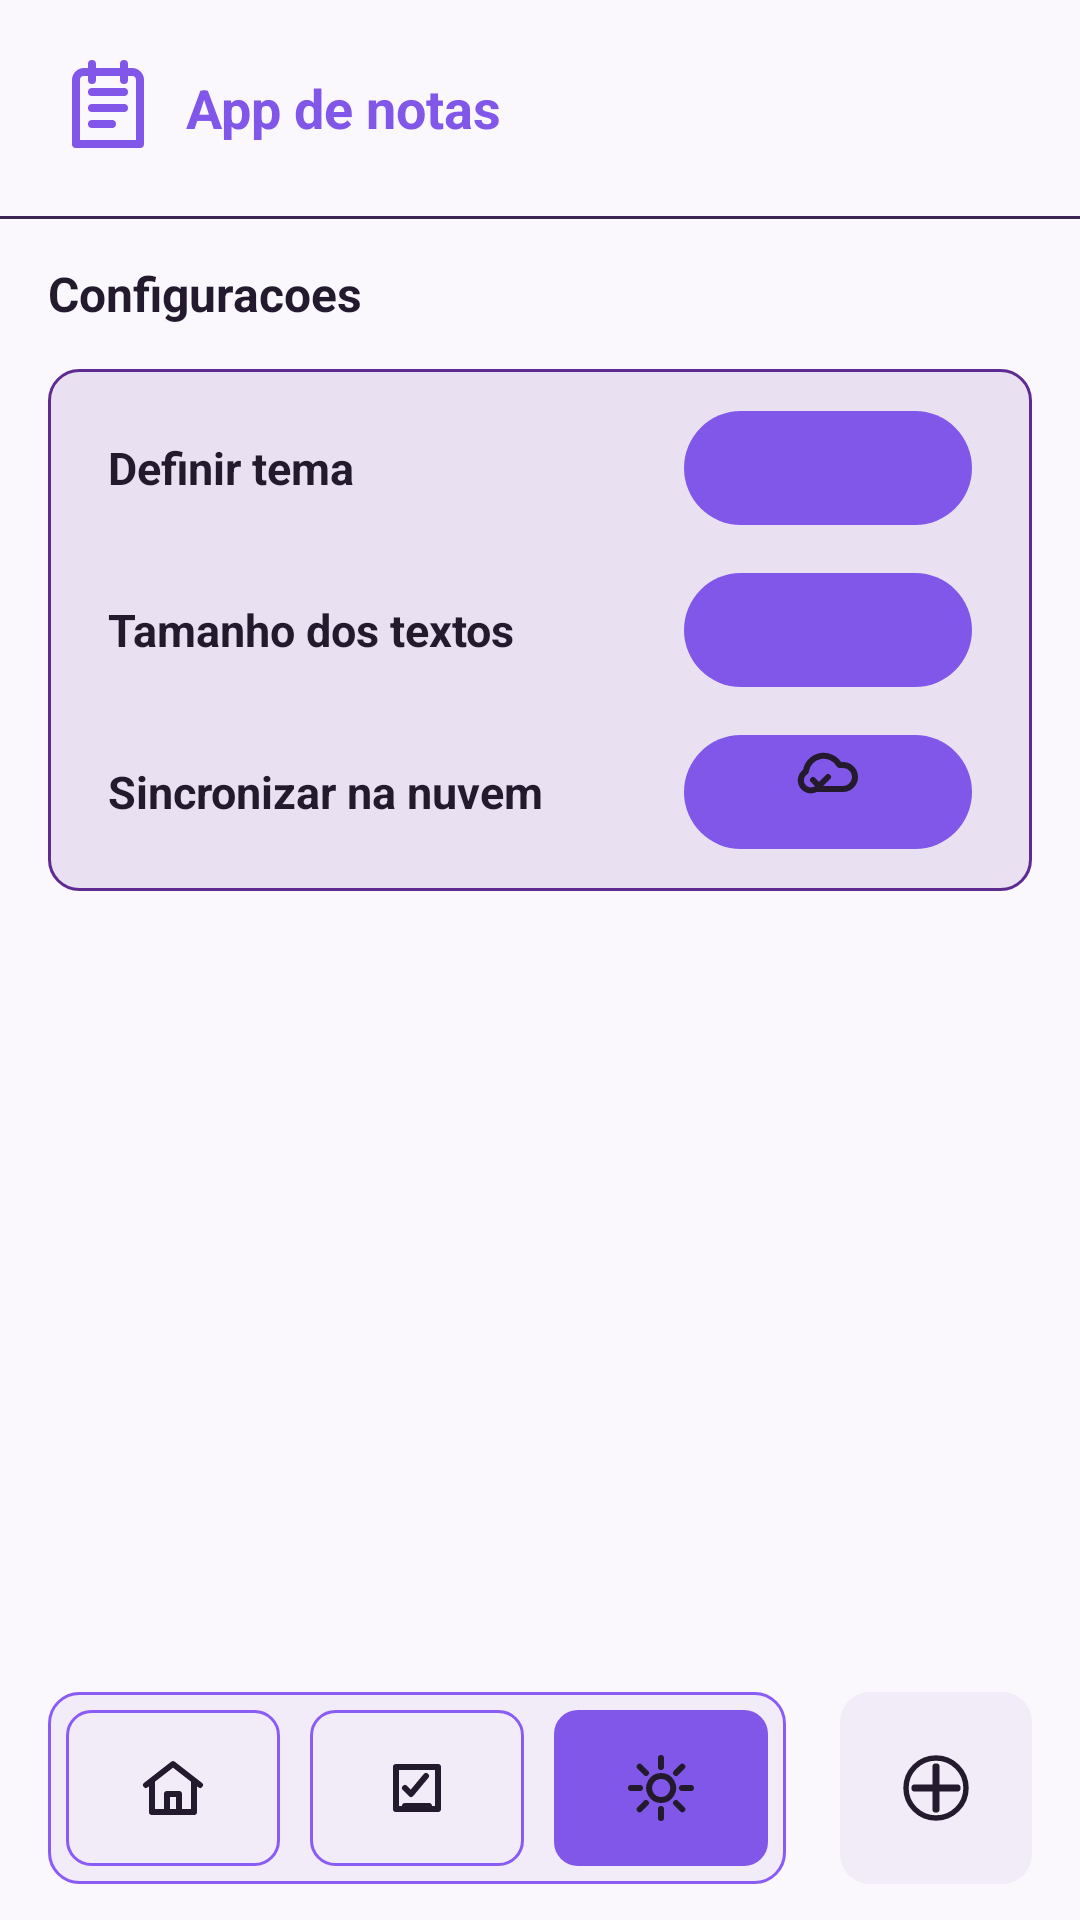

Icon click points for this 1080x1920 phone screenshot, format (x,y):
Adicionar nota: (936,1788)
Checklists: (417,1788)
Configuracoes: (661,1788)
note: (108,104)
Tela inicial: (173,1788)
